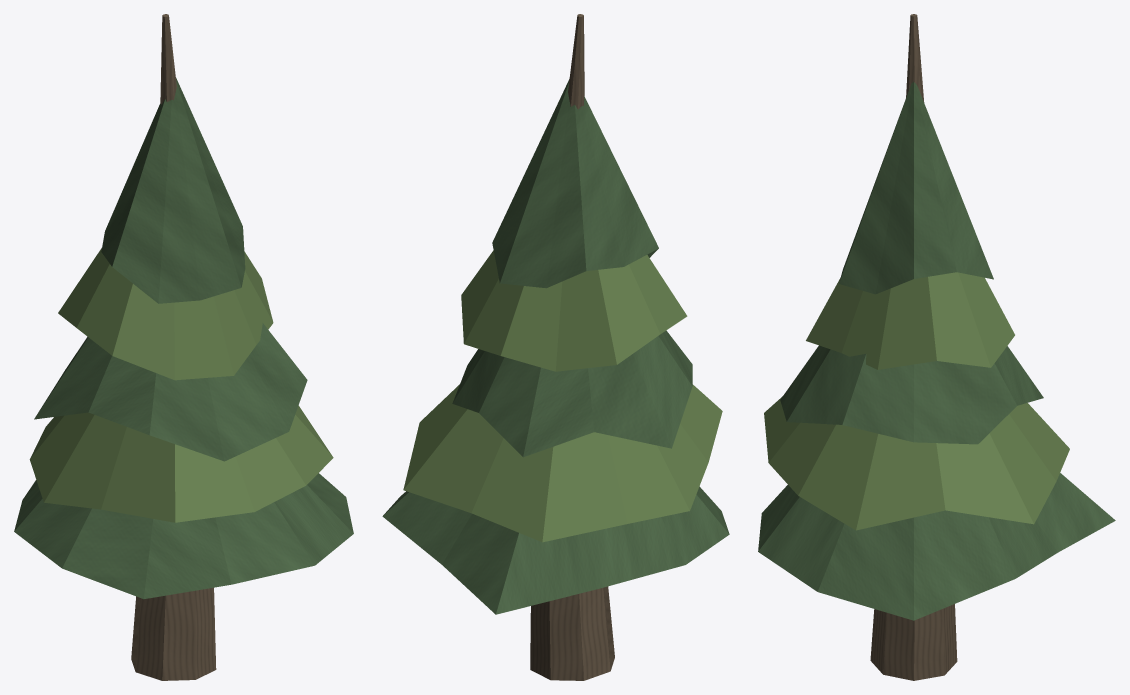
File: spruce_young.glb
3 renders of one model, left to right at view 1: azimuth 30°, elevation 25°; view 2: azimuth 150°, elevation 25°; view 3: azimuth 270°, elevation 25°, orthographic.
Parts seen in each view (by area): view 1: spruce_young; view 2: spruce_young; view 3: spruce_young.
Boxes of the visible parts, x1,y1,x2,y2 form: spruce_young: (14, 14, 353, 680); spruce_young: (382, 14, 729, 680); spruce_young: (758, 14, 1115, 680).
Bounding box in the file's own units: 1.54 × 3.11 × 1.57.
3 materials, 2 textured.
